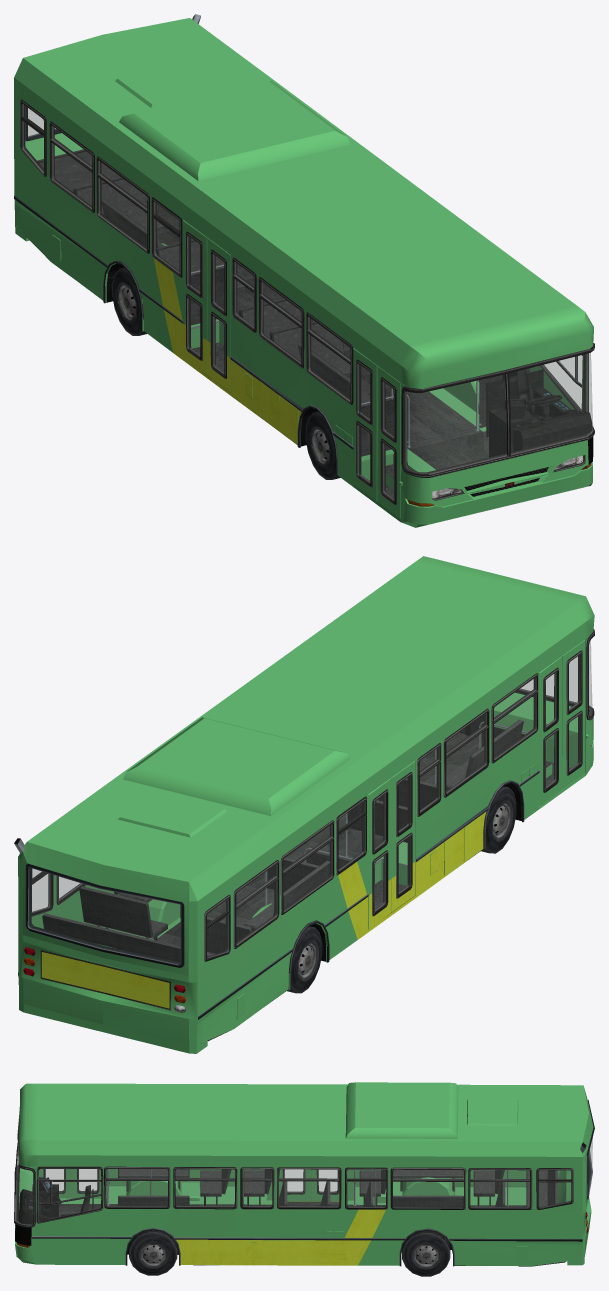
Rendered from veBus_SP.fbx.
3 views of the same model, one above another, from view 1: azimuth 30°, elevation 25°; view 2: azimuth 150°, elevation 25°; view 3: azimuth 270°, elevation 25° (orthographic). The views are drawn at different scales.
Parts seen in each view (by area): view 1: ve_Bus_SP, BTire_FR, BTire_RR; view 2: ve_Bus_SP, BTire_RR, BTire_FR; view 3: ve_Bus_SP, BTire_RL, BTire_FL.
Boxes of the visible parts, box(x1,y1,x2,y2) form: ve_Bus_SP: box(14, 14, 594, 527); BTire_FR: box(305, 411, 340, 479); BTire_RR: box(112, 267, 147, 335); ve_Bus_SP: box(14, 556, 594, 1053); BTire_RR: box(287, 926, 322, 993); BTire_FR: box(481, 786, 516, 853); ve_Bus_SP: box(14, 1082, 594, 1266); BTire_RL: box(402, 1230, 450, 1276); BTire_FL: box(129, 1230, 177, 1275).
Bounding box in the file's own units: 315 × 316 × 1176.
